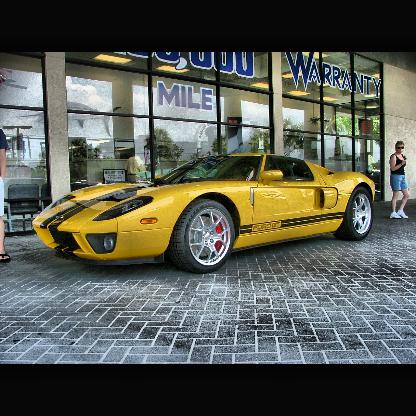Ford GT Coupe 2006: (33, 151, 380, 274)
